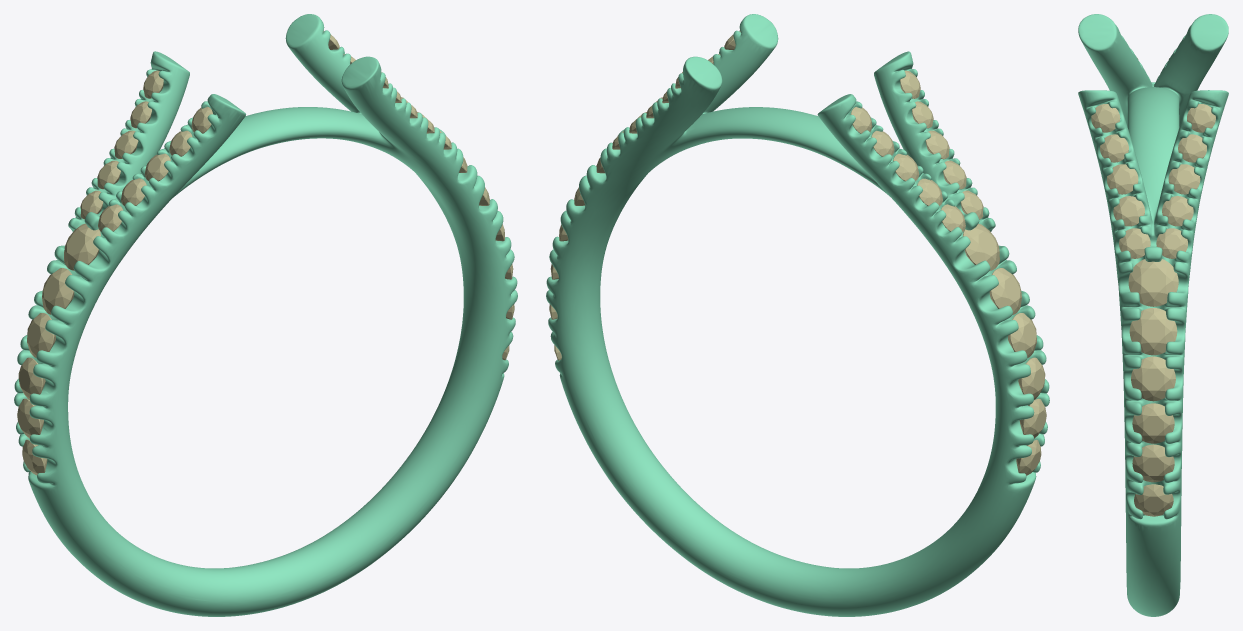
3 renders of one model, left to right at view 1: azimuth 30°, elevation 25°; view 2: azimuth 150°, elevation 25°; view 3: azimuth 270°, elevation 25°, orthographic. The views are drawn at different scales.
Parts seen in each view (by area): view 1: Metal02, Diamond_Gem.010, Diamond_Gem.009, Diamond_Gem.008, Diamond_Gem.007; view 2: Metal02, Diamond_Gem.010, Diamond_Gem.009, Diamond_Gem.008, Diamond_Gem.007; view 3: Metal02, Diamond_Gem.021, Diamond_Gem.022, Diamond_Gem.023, Diamond_Gem.024, Diamond_Gem.025, Diamond_Gem.026, Diamond_Gem.019, Diamond_Gem.028, Diamond_Gem.018, Diamond_Gem.029, Diamond_Gem.027 (+5 smaller).
Boxes of the visible parts, x1,y1,x2,y2 form: Metal02: [14, 14, 517, 616]; Diamond_Gem.010: [64, 223, 100, 270]; Diamond_Gem.009: [42, 268, 74, 314]; Diamond_Gem.008: [27, 313, 55, 357]; Diamond_Gem.007: [18, 357, 45, 399]; Metal02: [546, 14, 1049, 616]; Diamond_Gem.010: [963, 223, 999, 270]; Diamond_Gem.009: [989, 268, 1021, 314]; Diamond_Gem.008: [1008, 313, 1036, 357]; Diamond_Gem.007: [1018, 357, 1045, 399]; Metal02: [1078, 14, 1228, 616]; Diamond_Gem.021: [1128, 259, 1178, 306]; Diamond_Gem.022: [1129, 308, 1177, 355]; Diamond_Gem.023: [1131, 356, 1175, 401]; Diamond_Gem.024: [1132, 403, 1174, 443]; Diamond_Gem.025: [1132, 444, 1174, 482]; Diamond_Gem.026: [1134, 484, 1173, 516]; Diamond_Gem.019: [1113, 196, 1144, 226]; Diamond_Gem.028: [1162, 196, 1193, 226]; Diamond_Gem.018: [1107, 164, 1138, 194]; Diamond_Gem.029: [1168, 164, 1200, 194]; Diamond_Gem.027: [1156, 228, 1187, 258].
Size of the model in its own units: 20.82 by 22.53 by 5.71.
